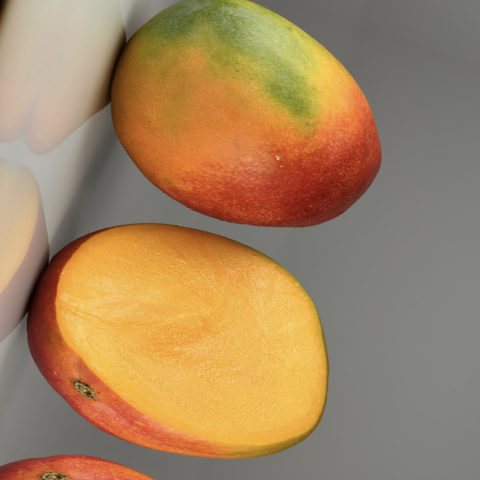mango: (0, 168, 384, 480), (49, 0, 424, 271)
